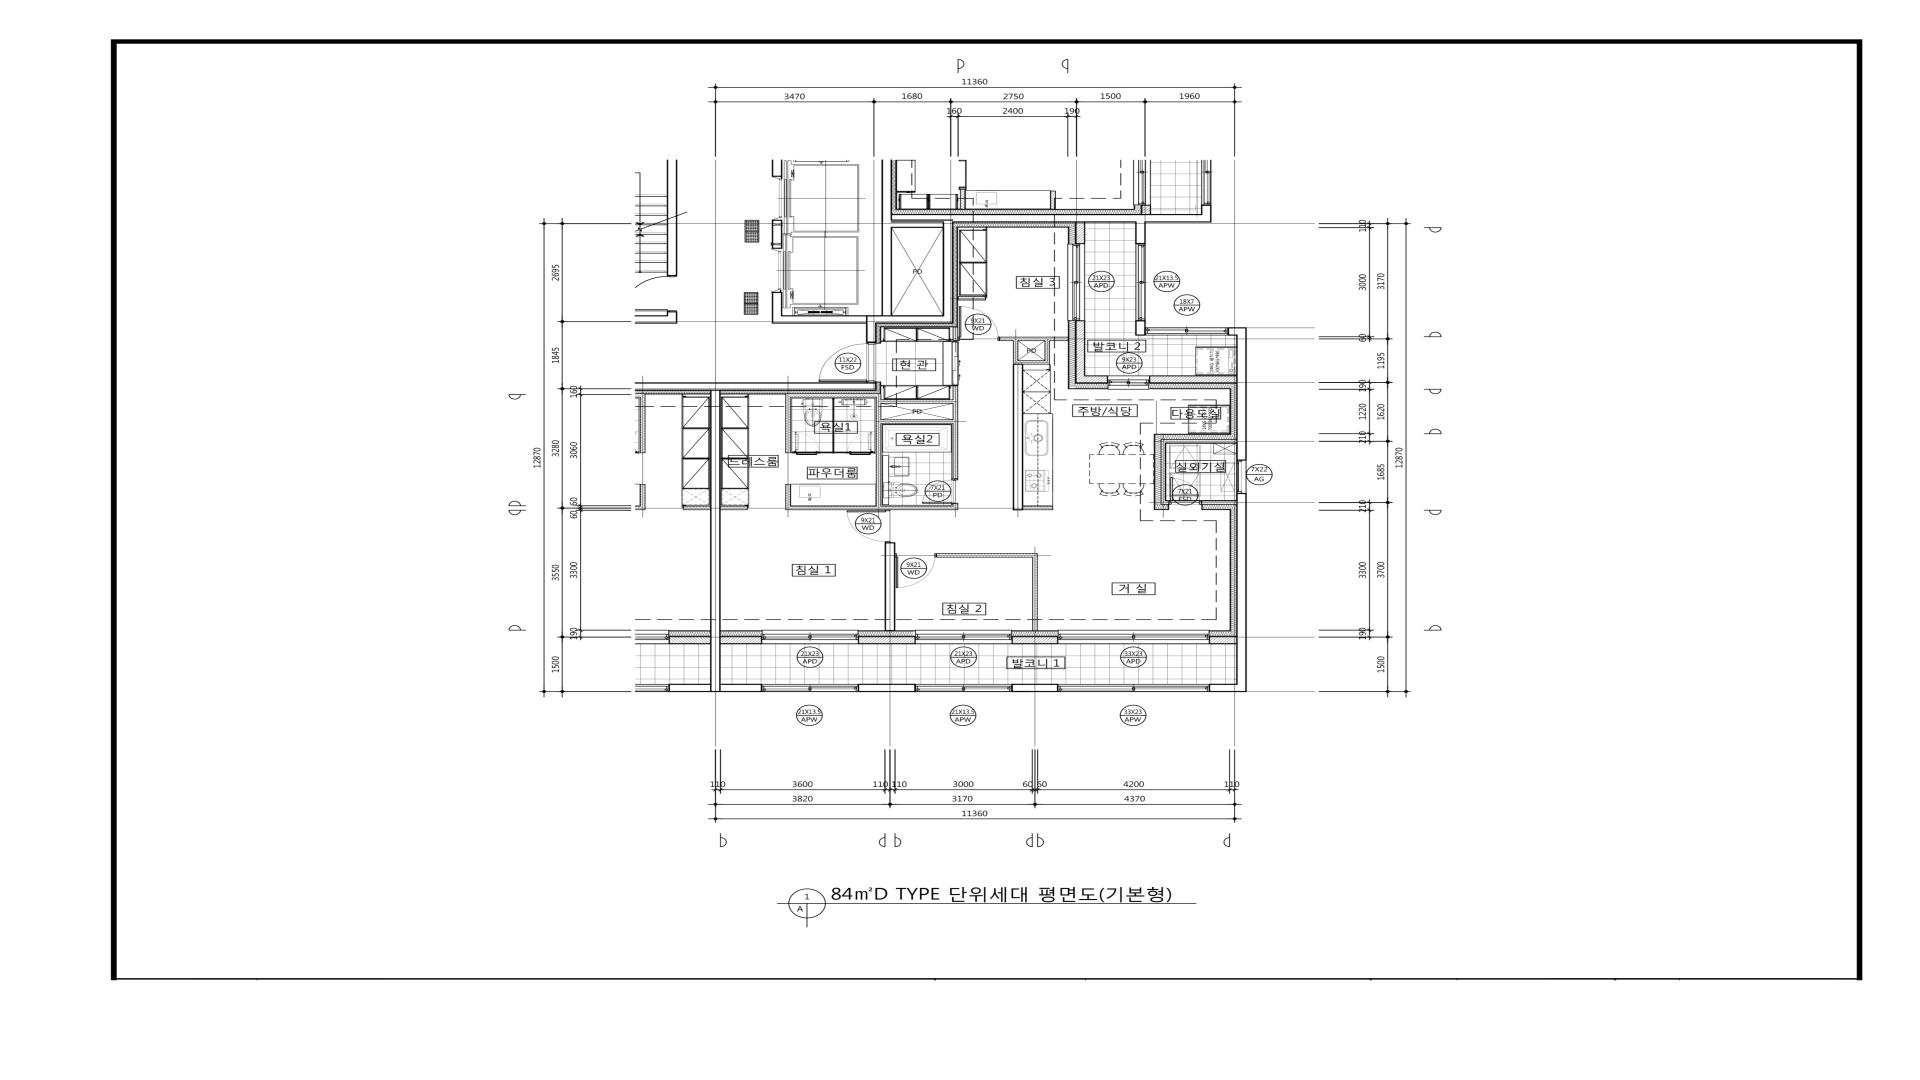background: (0, 0, 1920, 1080)
door: (818, 343, 876, 382), (635, 276, 677, 312), (958, 306, 1000, 341), (895, 553, 937, 588), (845, 510, 890, 542), (922, 478, 958, 504), (1169, 477, 1201, 505), (794, 431, 819, 453), (847, 431, 872, 453), (952, 341, 959, 386)
wall: (710, 391, 720, 692), (892, 214, 1212, 223), (1236, 493, 1247, 692), (635, 382, 877, 391), (881, 159, 892, 315), (1013, 365, 1023, 510), (1236, 335, 1247, 460), (667, 160, 677, 276), (884, 542, 895, 630), (943, 223, 953, 315), (791, 505, 958, 510), (1149, 375, 1236, 384), (782, 315, 866, 324), (866, 315, 953, 323), (1075, 321, 1085, 383), (876, 397, 881, 506), (937, 553, 1032, 558), (953, 385, 958, 478), (858, 684, 916, 692), (859, 636, 915, 644), (1032, 553, 1037, 631), (635, 315, 677, 324), (1161, 439, 1236, 444), (1012, 684, 1058, 692), (1012, 636, 1058, 644), (790, 393, 881, 397), (785, 393, 791, 453), (881, 399, 953, 404), (881, 419, 953, 424), (720, 684, 762, 692), (721, 636, 762, 644), (772, 292, 782, 324), (772, 220, 782, 249), (1161, 443, 1166, 500), (1000, 337, 1068, 341), (1135, 223, 1146, 244), (1209, 684, 1236, 692), (1209, 636, 1236, 644), (1075, 223, 1085, 244), (866, 323, 876, 343), (1085, 375, 1108, 383), (1201, 500, 1236, 505), (772, 160, 782, 177), (1135, 320, 1146, 335), (785, 484, 791, 510), (1013, 360, 1044, 365), (1228, 327, 1247, 335), (1044, 341, 1050, 365), (1023, 506, 1053, 510), (958, 296, 986, 300), (720, 506, 748, 510), (832, 398, 834, 452), (1013, 341, 1018, 360), (667, 311, 677, 315), (1161, 500, 1169, 505), (819, 452, 847, 453), (953, 504, 958, 506)
window: (1058, 630, 1209, 644), (1067, 244, 1085, 321), (762, 630, 859, 644), (915, 630, 1012, 644), (1058, 684, 1209, 692), (762, 684, 858, 692), (916, 684, 1012, 692), (1136, 244, 1146, 320), (1146, 327, 1228, 335), (1108, 376, 1149, 390), (1236, 460, 1246, 493)
